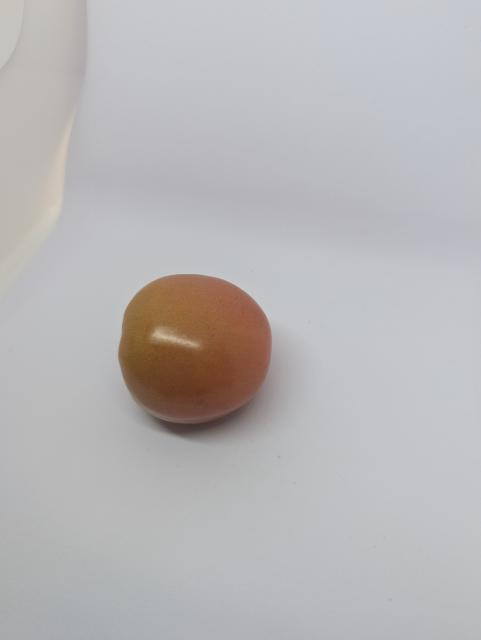turning: (115, 264, 278, 433)
